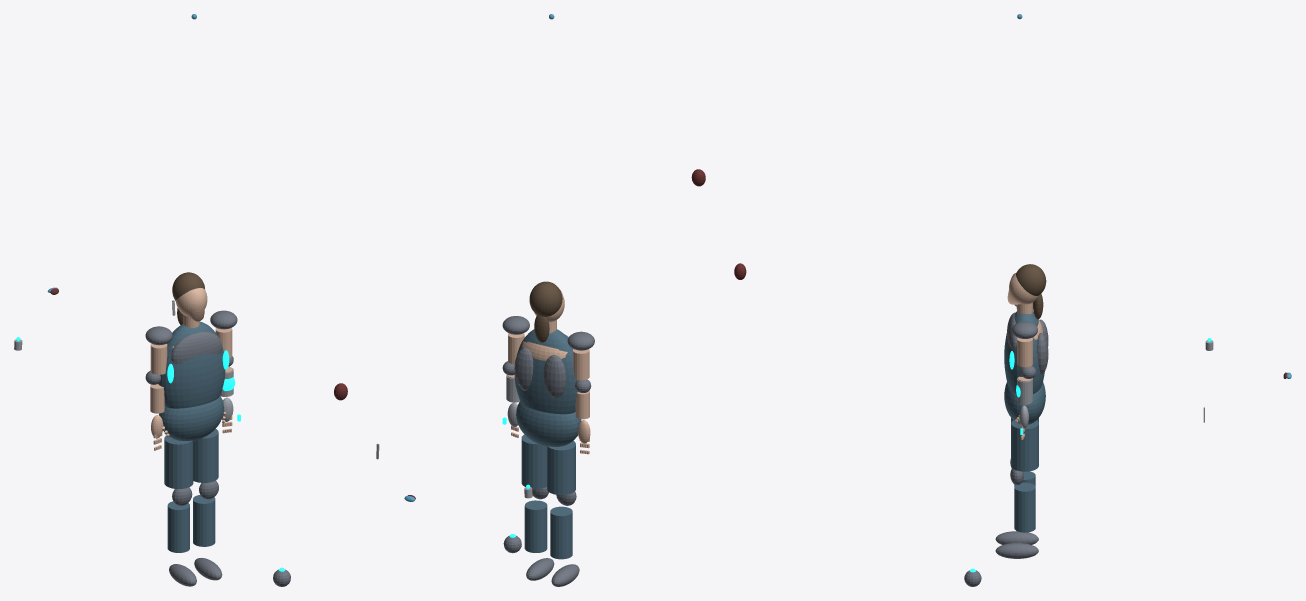
File: Operative.fbx
3 renders of one model, left to right at view 1: azimuth 30°, elevation 25°; view 2: azimuth 150°, elevation 25°; view 3: azimuth 270°, elevation 25°, orthographic. The views are drawn at different scales.
Parts seen in each view (by area): view 1: Operative_Body; view 2: Operative_Body; view 3: Operative_Body.
Part boxes in pixels (<box>): Operative_Body: <box>145,272,237,586</box>; Operative_Body: <box>502,281,594,586</box>; Operative_Body: <box>995,264,1048,558</box>.
Size of the model in its own units: 99.84 by 344 by 321.
